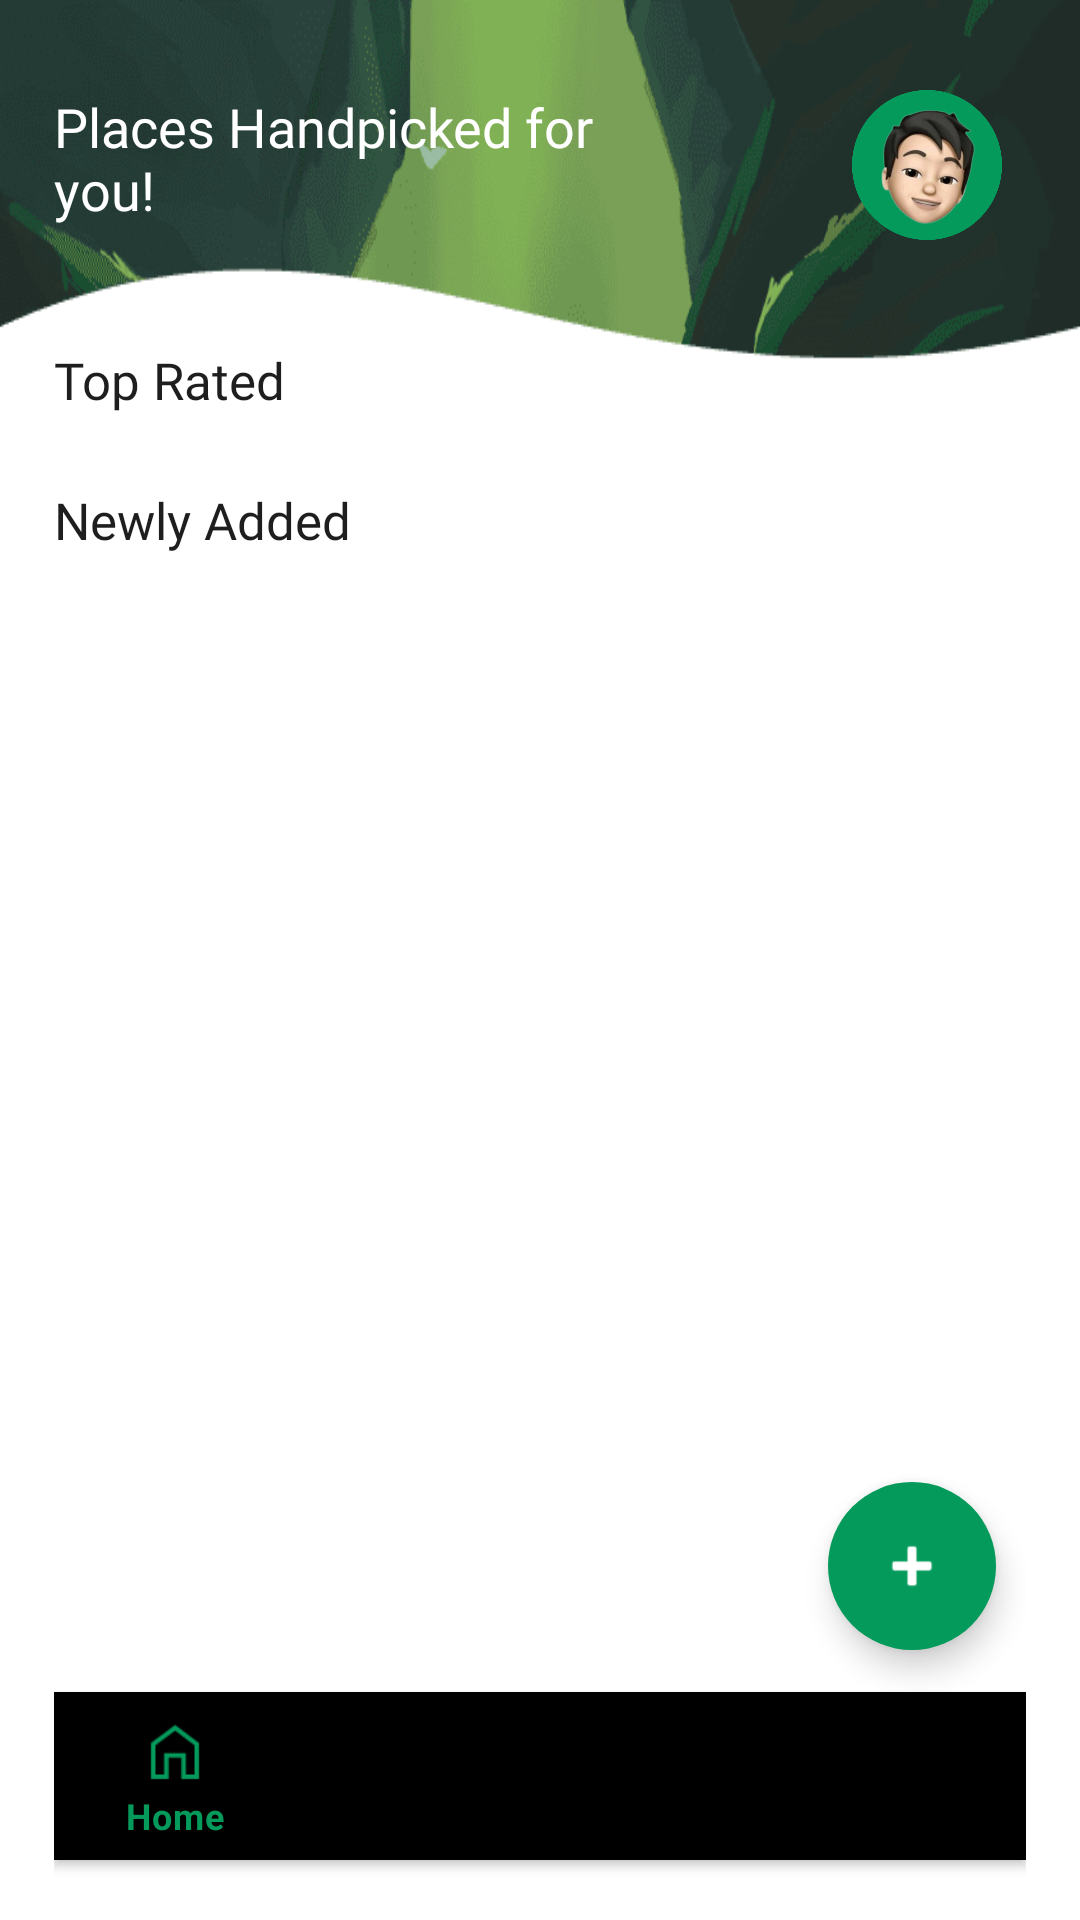

Icon click points for this 1080*1920 phone screenshot, format point (x, y):
add: point (912, 1566)
user moji: point (927, 165)
